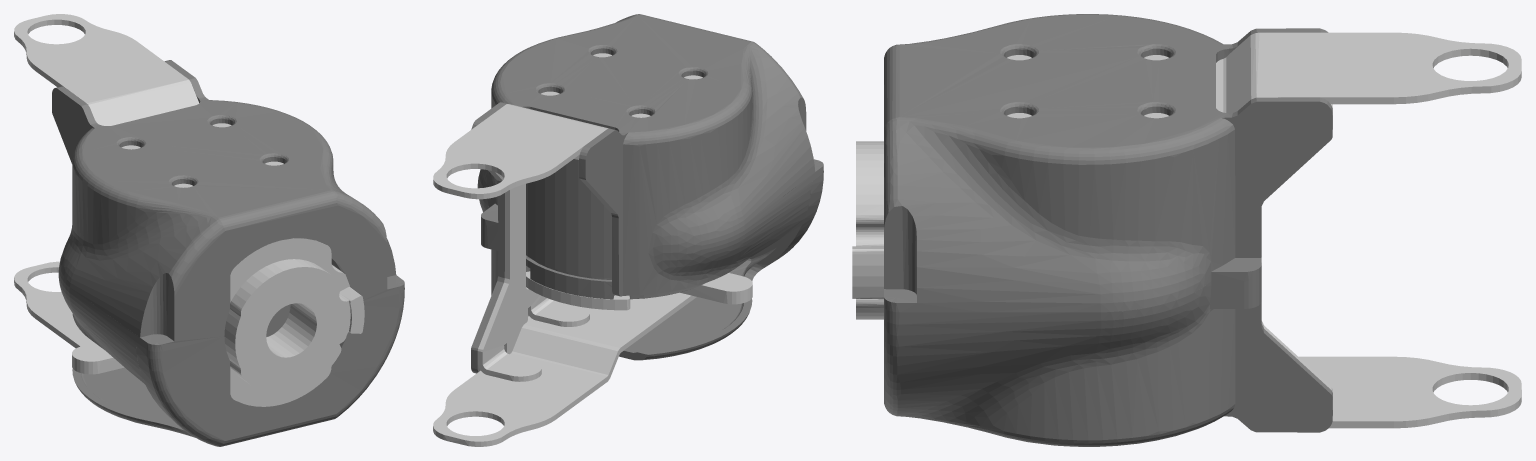
3 renders of one model, left to right at view 1: azimuth 30°, elevation 25°; view 2: azimuth 150°, elevation 25°; view 3: azimuth 270°, elevation 25°, orthographic. The views are drawn at different scales.
Size of the model in its own units: 0.076 by 0.0716 by 0.1312.
1 material, 1 textured.
